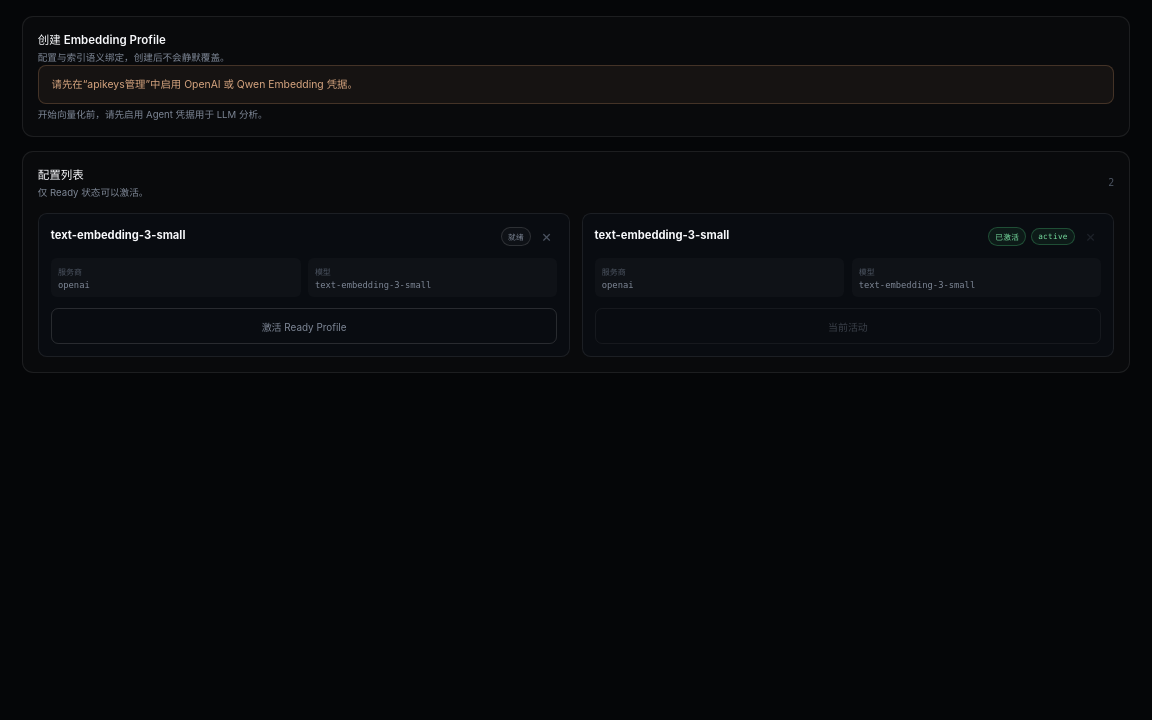
EmbeddingProfilesPanel profile deletion › cancels without deleting and protects the active profile
The image size is (1152, 720).
What coordinates should you click on to do the following:
click the button named "删除 text-embedding-3-small Profile"
I would click on:
 (547, 236)
Its box is [536,226,557,247].
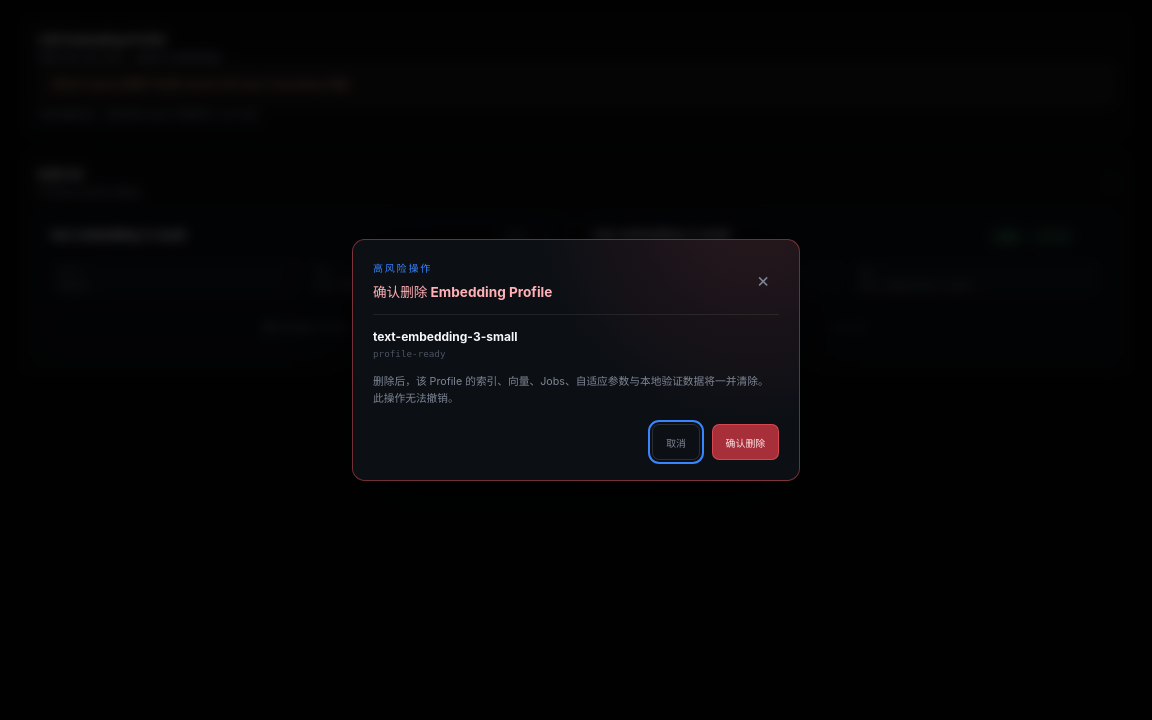
What coordinates should you click on to do the following:
click the button "取消"
I would click on:
 (676, 442)
Its box is [652,424,700,460].
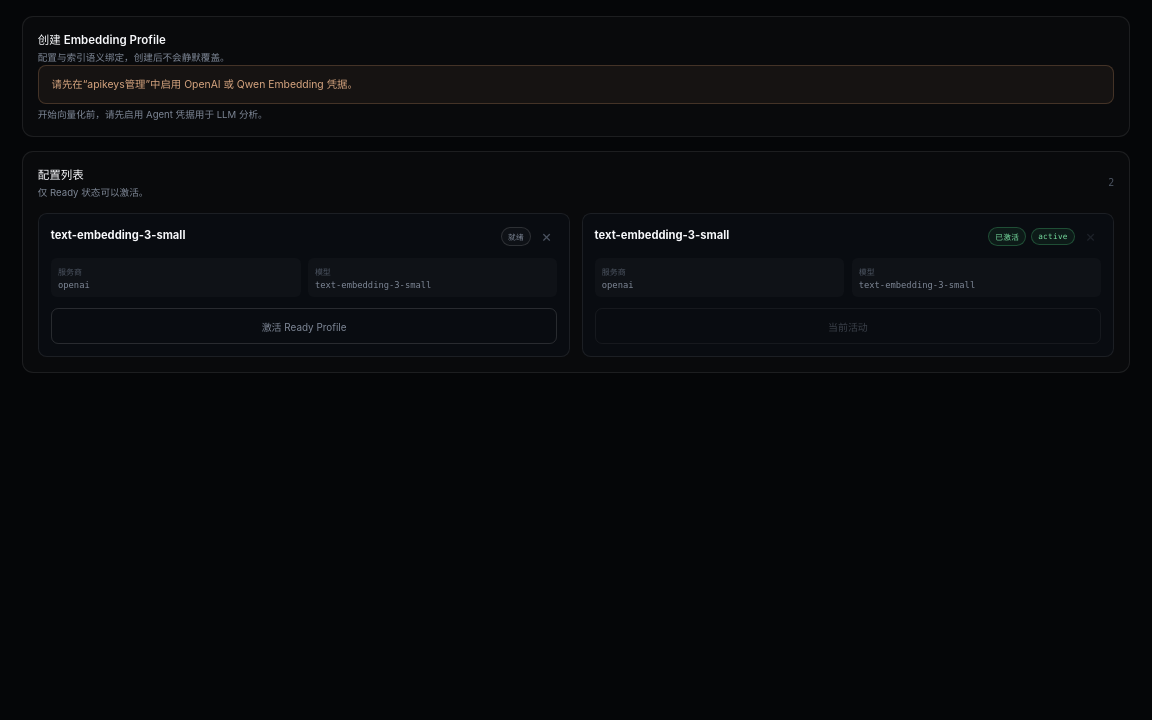
Check: the dialog is gone
